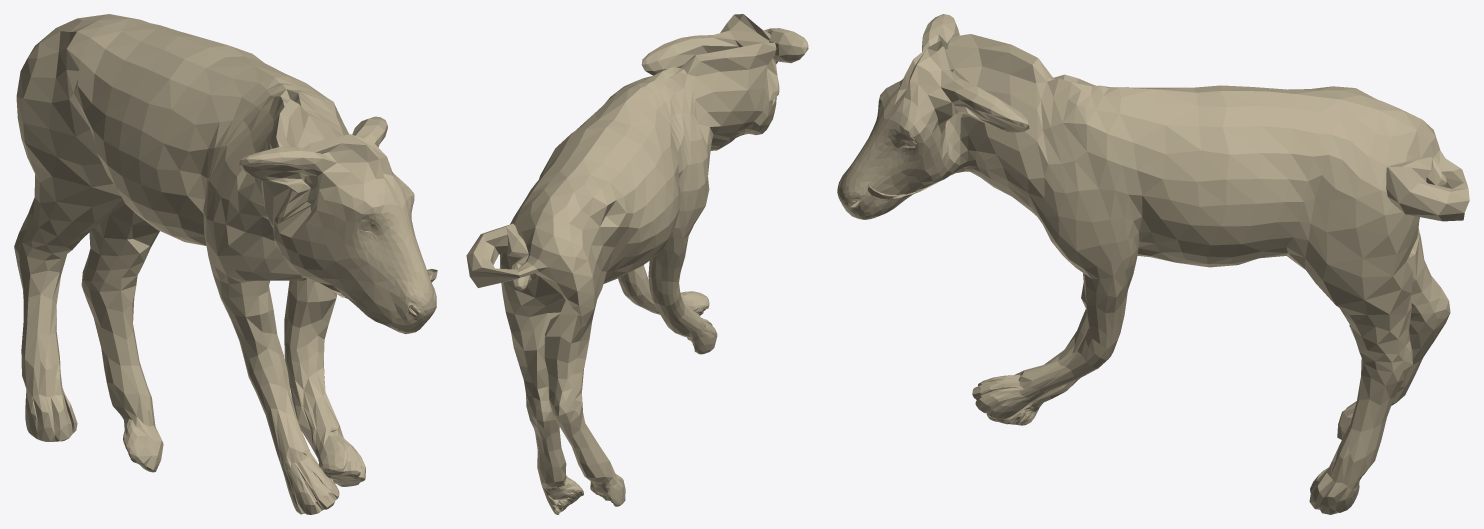
3 renders of one model, left to right at view 1: azimuth 30°, elevation 25°; view 2: azimuth 150°, elevation 25°; view 3: azimuth 270°, elevation 25°, orthographic. The views are drawn at different scales.
Visible parts, largest first — view 1: world; view 2: world; view 3: world.
Boxes of the visible parts, x1,y1,x2,y2 form: world: (14,14,437,514); world: (466,14,808,514); world: (837,14,1469,514).
Size of the model in its own units: 0.553 by 1.34 by 1.68.
